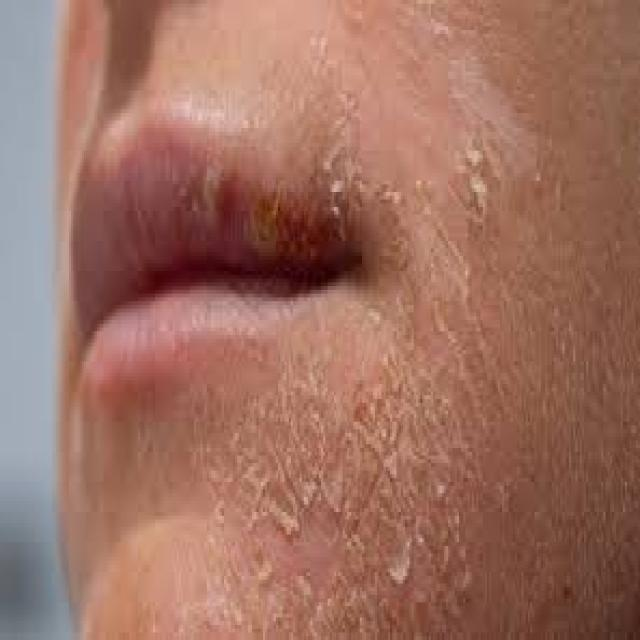flakiness: (239, 384, 494, 608), (322, 162, 518, 233)
